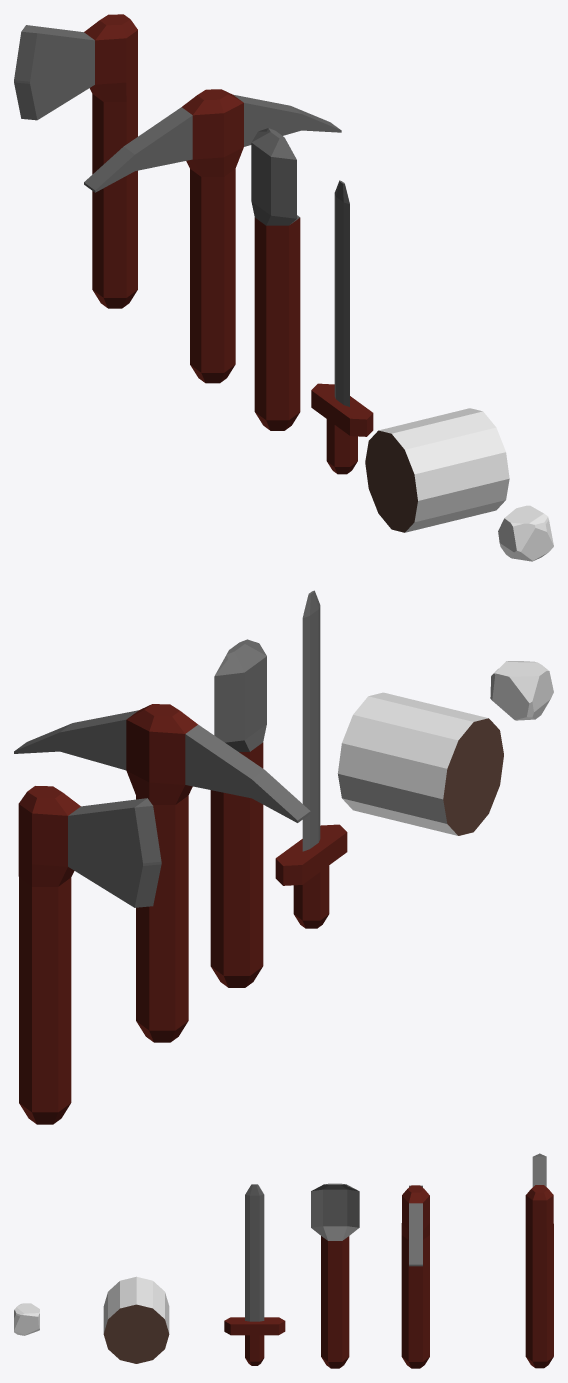
File: Items.fbx
3 renders of one model, top to bottom at view 1: azimuth 30°, elevation 25°; view 2: azimuth 150°, elevation 25°; view 3: azimuth 270°, elevation 25°, orthographic. The views are drawn at different scales.
Parts seen in each view (by area): view 1: Cylinder, Cylinder.004, Cylinder.003, Cylinder.001, Cylinder.002, Cube; view 2: Cylinder.004, Cylinder, Cylinder.003, Cylinder.001, Cylinder.002, Cube; view 3: Cylinder.001, Cylinder.004, Cylinder, Cylinder.003, Cylinder.002, Cube.
Part boxes in pixels (x1=…): Cylinder: x1=84, y1=89, x2=341, y2=383; Cylinder.004: x1=14, y1=14, x2=137, y2=308; Cylinder.003: x1=365, y1=408, x2=509, y2=532; Cylinder.001: x1=251, y1=128, x2=300, y2=430; Cylinder.002: x1=311, y1=180, x2=373, y2=474; Cube: x1=498, y1=505, x2=553, y2=561; Cylinder.004: x1=18, y1=786, x2=161, y2=1124; Cylinder: x1=14, y1=704, x2=310, y2=1042; Cylinder.003: x1=337, y1=692, x2=503, y2=835; Cylinder.001: x1=210, y1=639, x2=266, y2=987; Cylinder.002: x1=275, y1=590, x2=347, y2=928; Cube: x1=490, y1=661, x2=553, y2=720; Cylinder.001: x1=311, y1=1183, x2=359, y2=1368; Cylinder.004: x1=525, y1=1153, x2=553, y2=1368; Cylinder: x1=401, y1=1185, x2=429, y2=1368; Cylinder.003: x1=103, y1=1276, x2=169, y2=1363; Cylinder.002: x1=224, y1=1184, x2=285, y2=1365; Cube: x1=14, y1=1303, x2=39, y2=1335.
Size of the model in its own units: 538 by 617 by 1643.
